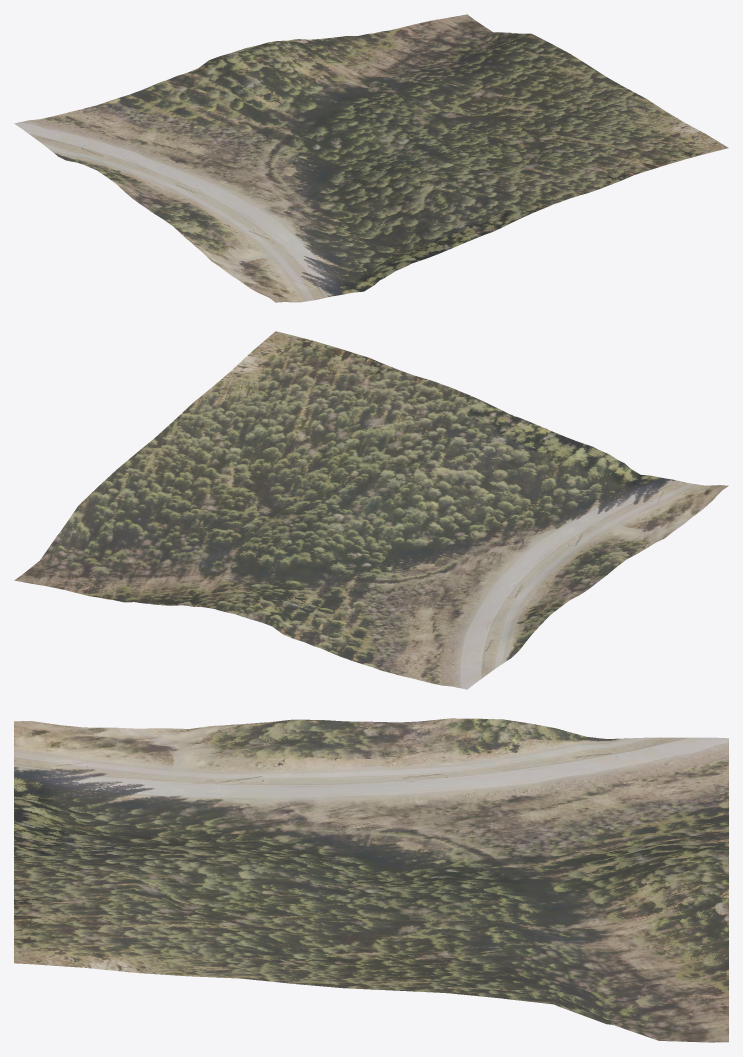
File: CM_Terrain_24493326_6815084.fbx
3 renders of one model, top to bottom at view 1: azimuth 30°, elevation 25°; view 2: azimuth 150°, elevation 25°; view 3: azimuth 270°, elevation 25°, orthographic. The views are drawn at different scales.
Visible parts, largest first — view 1: CM_Terrain_24493326_6815084_LOD0; view 2: CM_Terrain_24493326_6815084_LOD0; view 3: CM_Terrain_24493326_6815084_LOD0.
Boxes of the visible parts, x1,y1,x2,y2 form: CM_Terrain_24493326_6815084_LOD0: [14, 14, 728, 302]; CM_Terrain_24493326_6815084_LOD0: [14, 331, 728, 689]; CM_Terrain_24493326_6815084_LOD0: [14, 718, 728, 1042].
Size of what is drawn, in the model's own units: 205 by 25.35 by 205.
